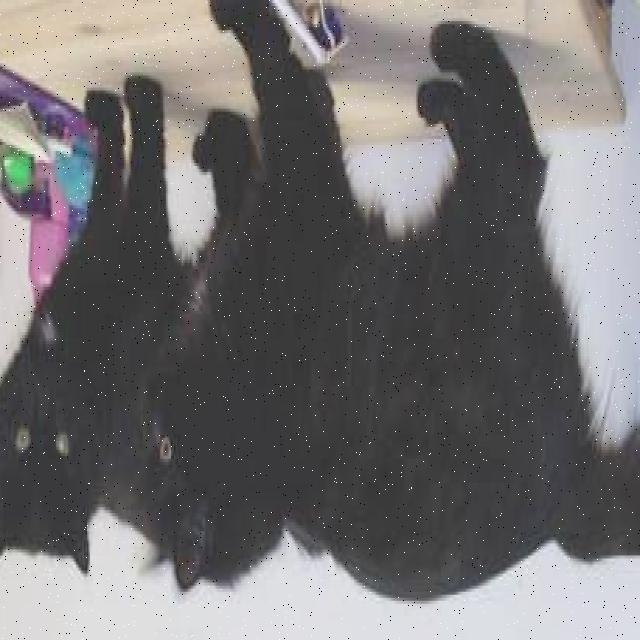Cat: (130, 276, 288, 603), (0, 320, 123, 592)
